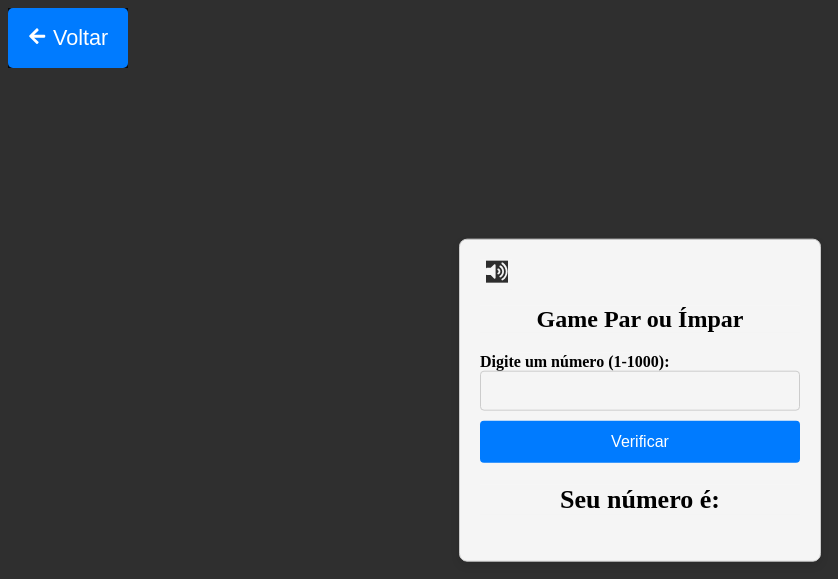
EvenOrOdd Page › should show the message Ímpar when entering an odd number in the input
Type "21" into the number field labelled "Digite um número (1-1000):". click: (640, 390)
box: [480, 370, 800, 410]
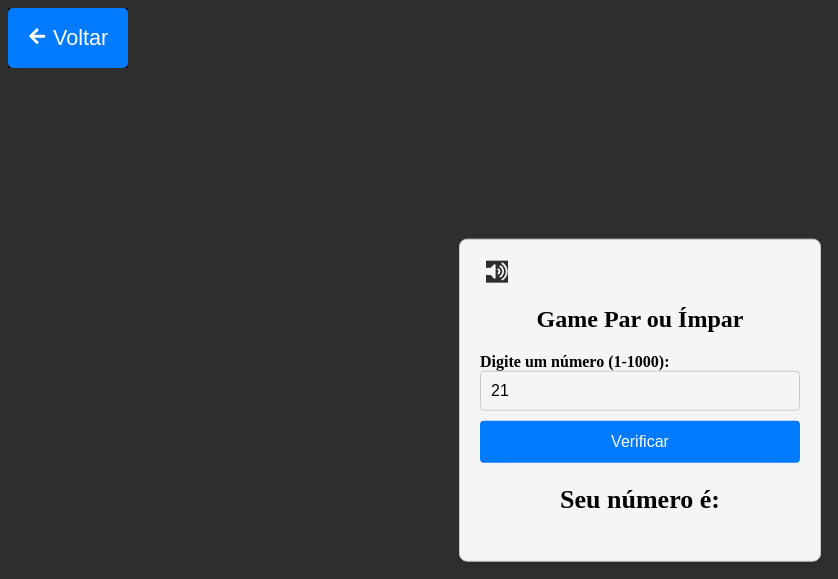
Click the button with test id "send-form". click: (640, 441)
box: [480, 420, 800, 462]
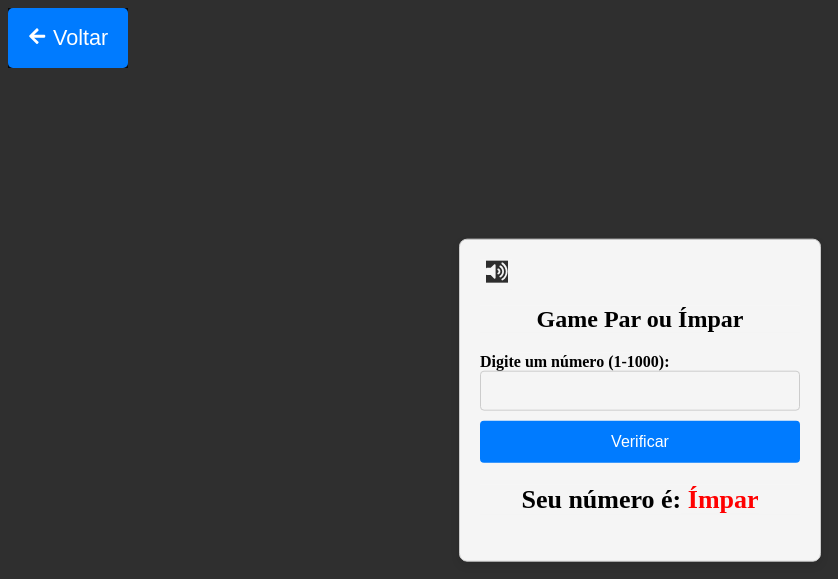
Expected: the text with test id "result-text" reads "Ímpar", [688, 484, 759, 513]
